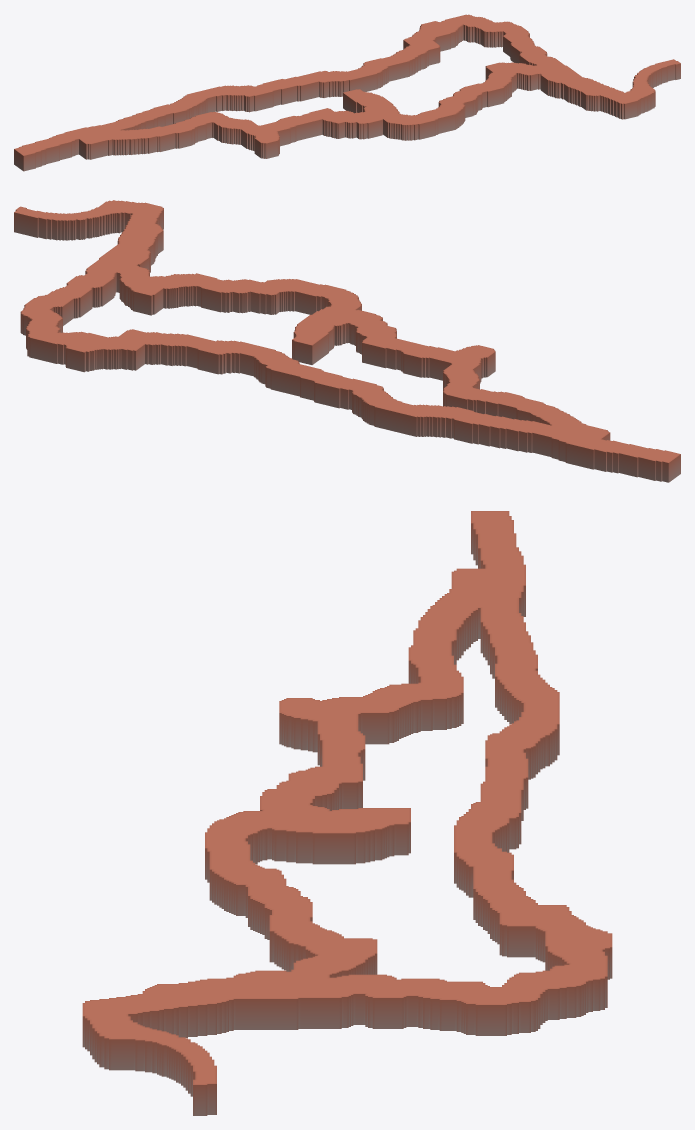
Rendered from model_gpx_insert_flat_fit.glb.
3 views of the same model, one above another, from view 1: azimuth 30°, elevation 25°; view 2: azimuth 150°, elevation 25°; view 3: azimuth 270°, elevation 25° (orthographic). The views are drawn at different scales.
Visible parts, largest first — view 1: gpx_insert_flat_fit; view 2: gpx_insert_flat_fit; view 3: gpx_insert_flat_fit.
Boxes of the visible parts, x1,y1,x2,y2 form: gpx_insert_flat_fit: (14, 14, 680, 171); gpx_insert_flat_fit: (14, 200, 680, 482); gpx_insert_flat_fit: (82, 511, 612, 1115).
Bounding box in the file's own units: 111 × 2.8 × 43.28.
